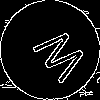W: (25, 25, 90, 91)
